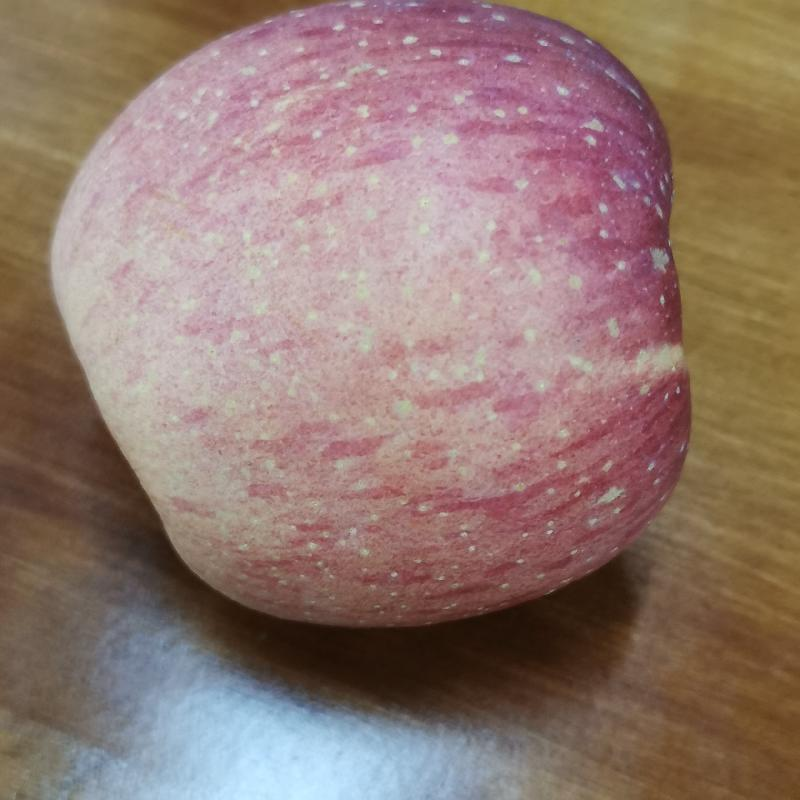apples: (47, 5, 709, 630)
